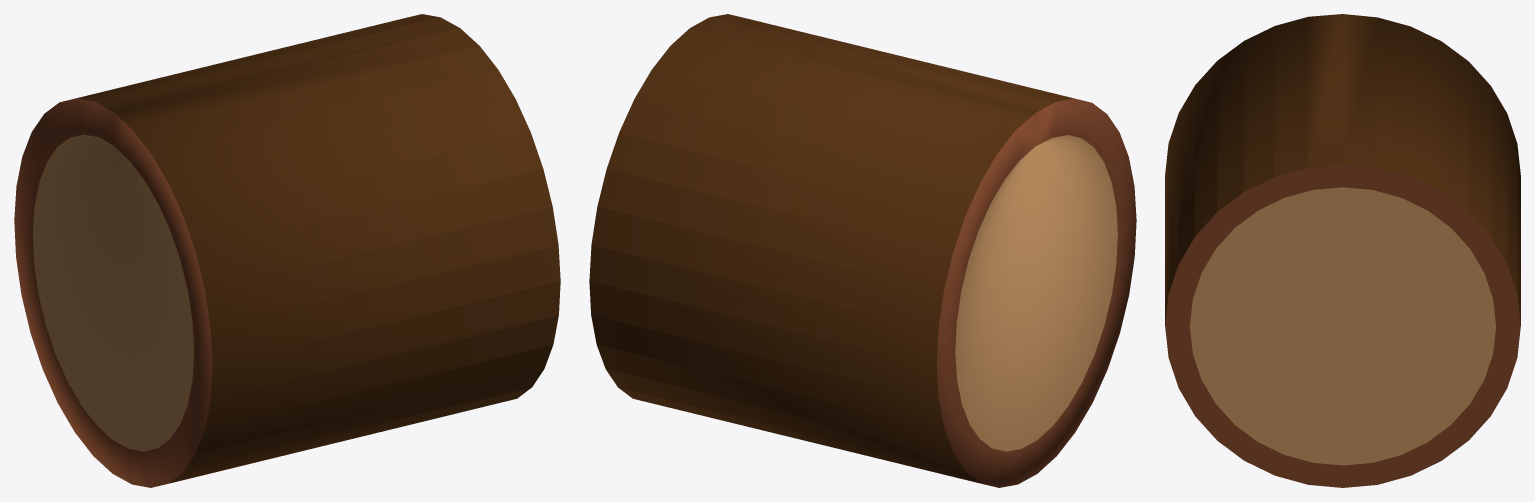
File: LogMIdLeft.fbx
The picture shows the model from 3 angles, left to right: view 1: azimuth 30°, elevation 25°; view 2: azimuth 150°, elevation 25°; view 3: azimuth 270°, elevation 25°; orthographic projection. The views are drawn at different scales.
Visible parts, largest first — view 1: Бревно лево; view 2: Бревно лево; view 3: Бревно лево.
Boxes of the visible parts, left/top/right/bottom form: Бревно лево: left=14, top=14, right=560, bottom=487; Бревно лево: left=589, top=14, right=1136, bottom=487; Бревно лево: left=1165, top=14, right=1520, bottom=487.
Size of the model in its own units: 304 by 300 by 300.
